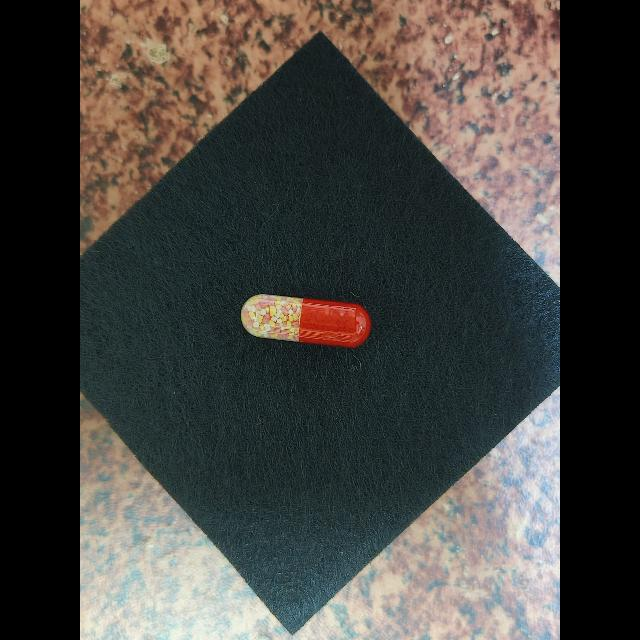Intact Capsule: (241, 294, 371, 348)
